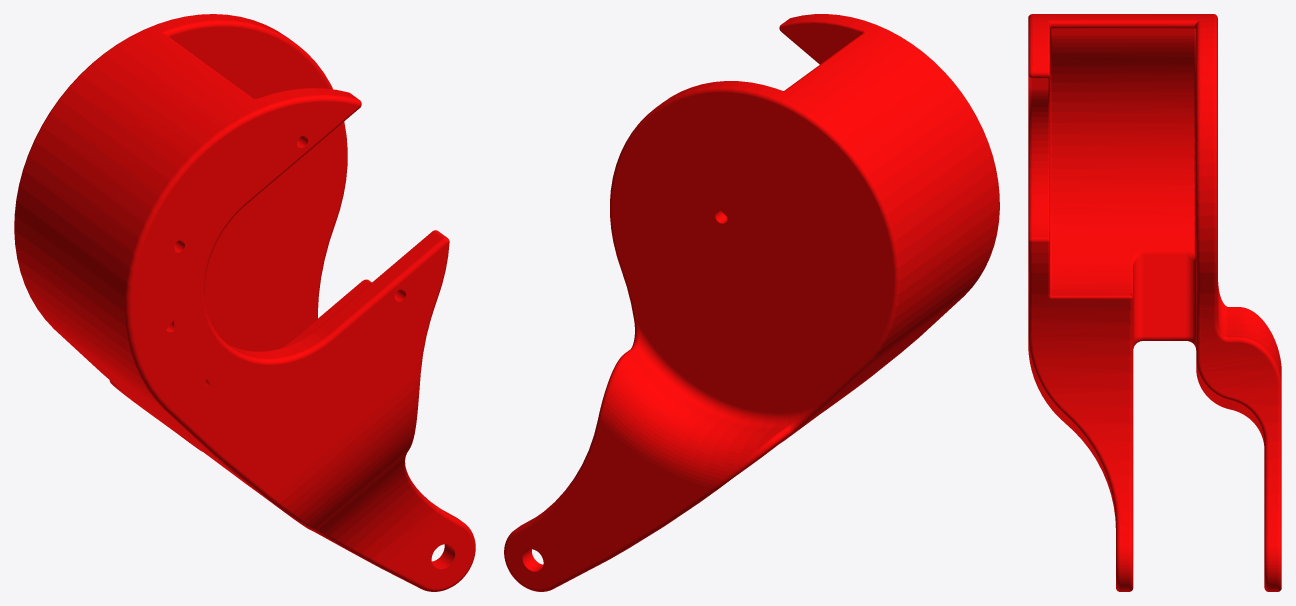
File: legs_1_right_leg_1_belt_thigh_right_1.glb
3 views of the same model, side by side, from view 1: azimuth 30°, elevation 25°; view 2: azimuth 150°, elevation 25°; view 3: azimuth 270°, elevation 25° (orthographic). The views are drawn at different scales.
Parts seen in each view (by area): view 1: legs_1_right_leg_1_belt_thigh_right_1.obj; view 2: legs_1_right_leg_1_belt_thigh_right_1.obj; view 3: legs_1_right_leg_1_belt_thigh_right_1.obj.
Part boxes in pixels (box(x1,y1,x2,y2)): legs_1_right_leg_1_belt_thigh_right_1.obj: box(14, 14, 475, 591); legs_1_right_leg_1_belt_thigh_right_1.obj: box(504, 14, 999, 591); legs_1_right_leg_1_belt_thigh_right_1.obj: box(1028, 14, 1281, 591).
Size of the model in its own units: 0.1767 by 0.243 by 0.117.
